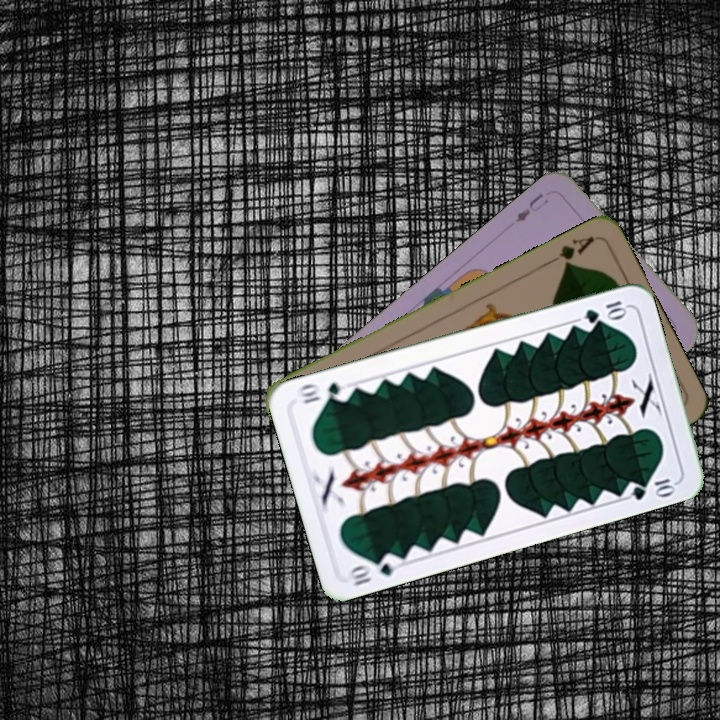EU: (510, 189, 551, 225)
G10: (343, 549, 401, 588), (580, 296, 629, 326)
GA: (543, 232, 597, 270)
